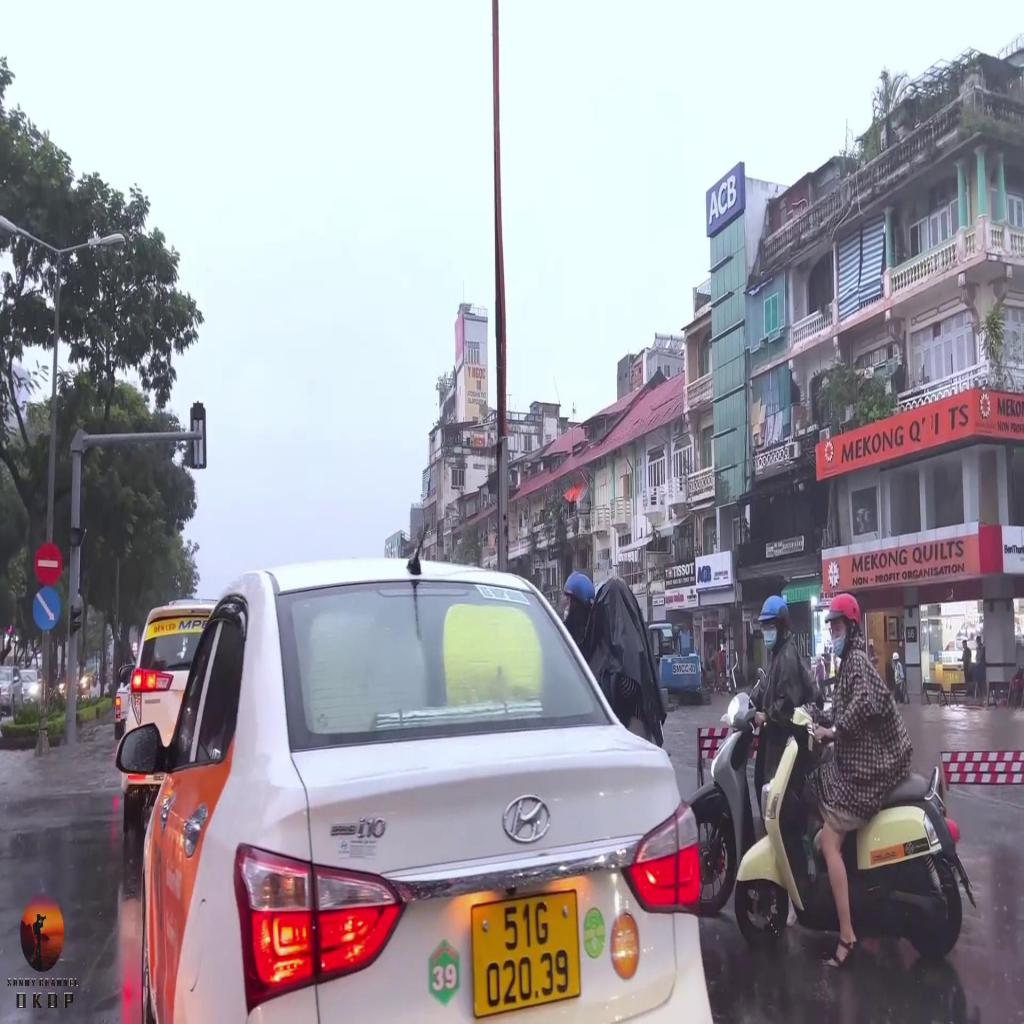cam_xe_di_nguoc_chieu: (33, 542, 62, 587)
huong_phai_di_vuot_chuong_ngai_vat_phai: (32, 586, 61, 632)
